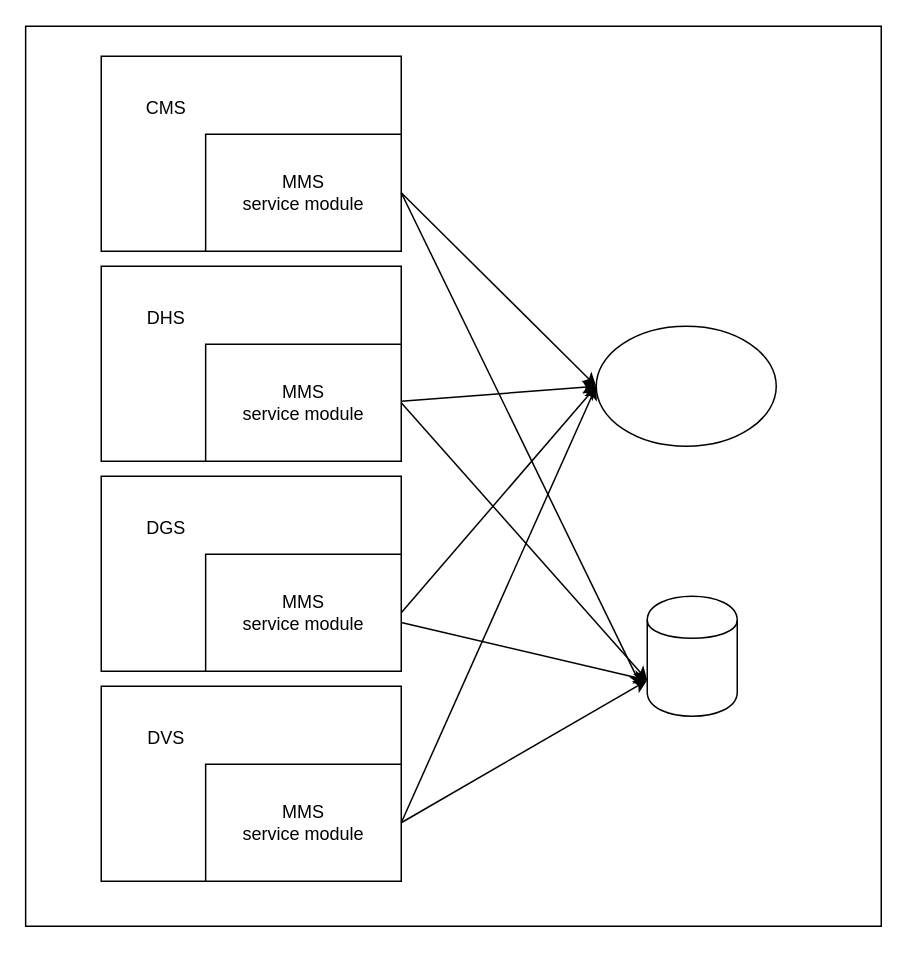
This 909x953 diagram has some shape labels left out. The centre of each missing label's shape, as x and y in pixels:
MMS DB: point 691,655
Spark Thrift Server: point 685,385
